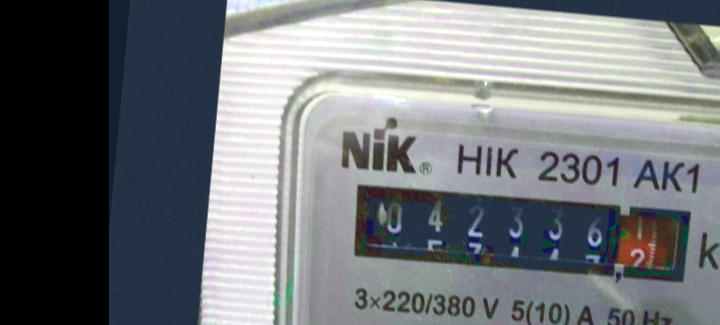0: (383, 198, 406, 234)
1: (631, 211, 646, 241)
2: (464, 201, 487, 239), (626, 245, 646, 268)
3: (543, 204, 566, 242), (505, 201, 527, 240)
4: (424, 195, 446, 233)
6: (581, 211, 606, 248)
screen: (342, 169, 701, 294)
